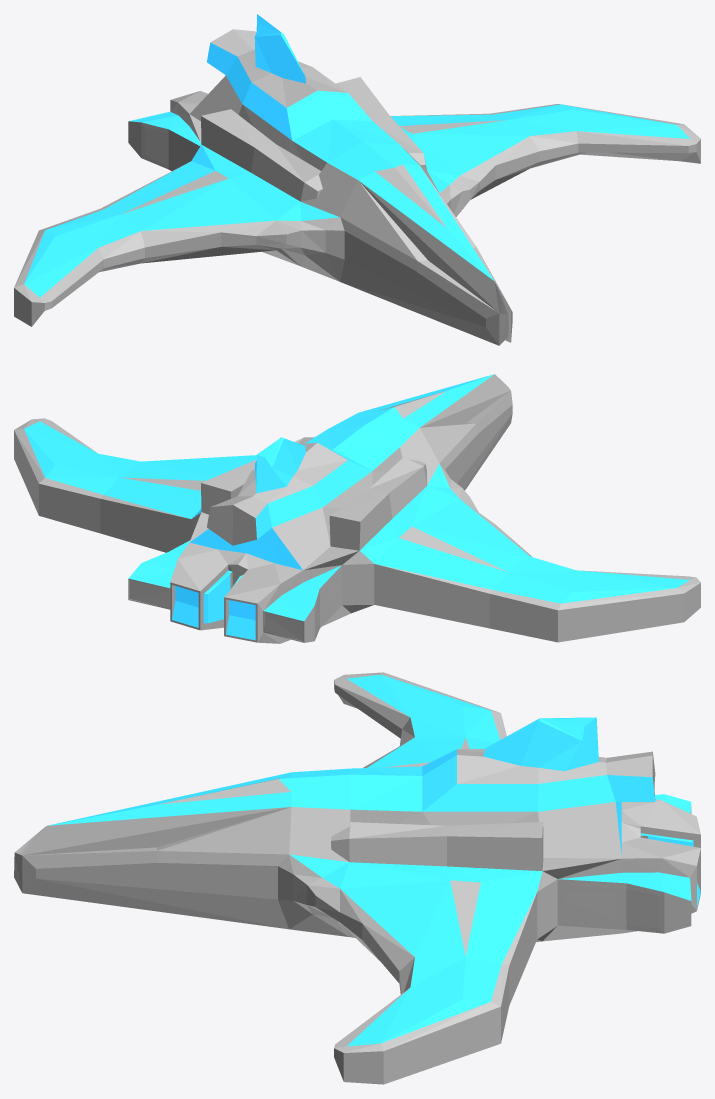
Rendered from SM_Ship_emm.fbx.
3 views of the same model, one above another, from view 1: azimuth 30°, elevation 25°; view 2: azimuth 150°, elevation 25°; view 3: azimuth 270°, elevation 25° (orthographic). The views are drawn at different scales.
Parts seen in each view (by area): view 1: SM_Ship_emm; view 2: SM_Ship_emm; view 3: SM_Ship_emm.
Part boxes in pixels (x1,y1,x2,y2): SM_Ship_emm: (14,14,700,345); SM_Ship_emm: (14,374,700,643); SM_Ship_emm: (14,672,700,1084).
Bounding box in the file's own units: 29.45 × 7.26 × 22.57.
